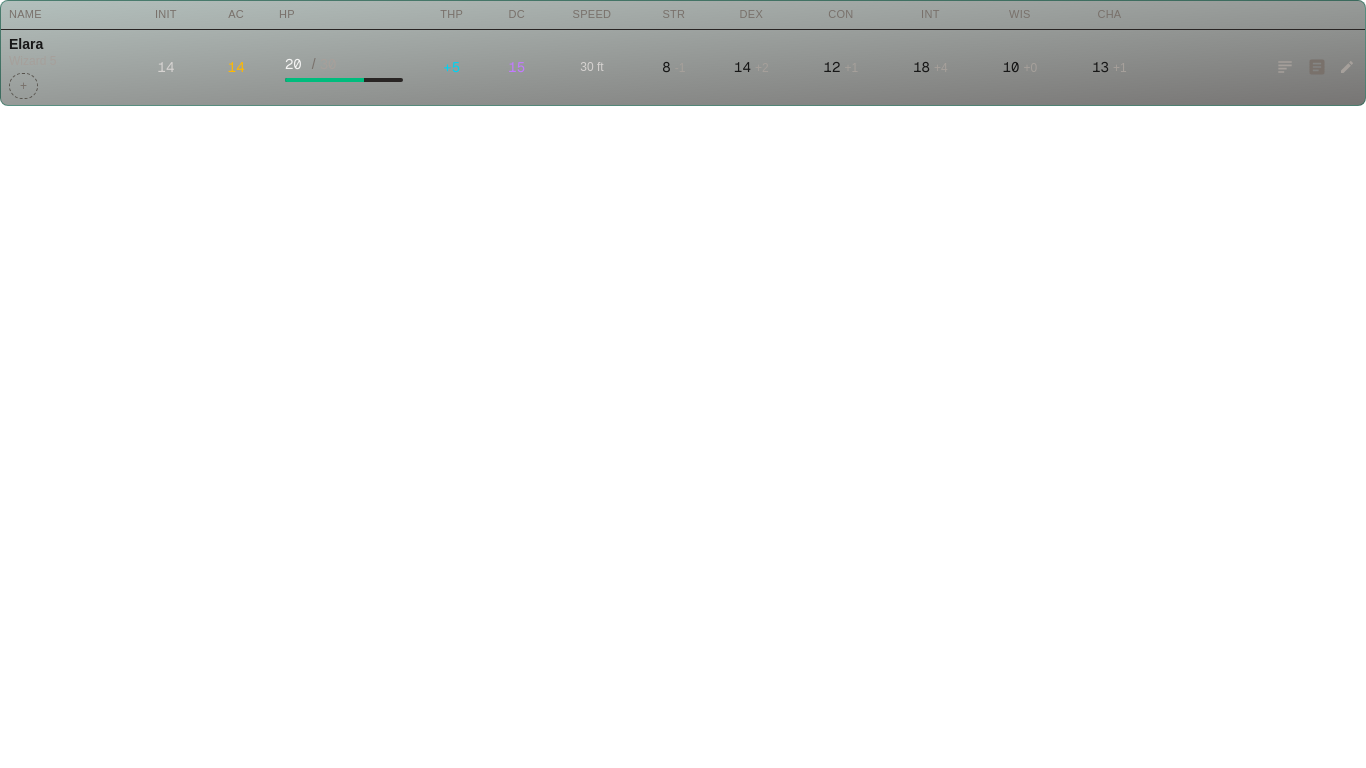
Test: CombatantTable › party rows open the character sheet modal
Click the button named "Character Sheet": (1285, 68) [1269, 52, 1301, 84]
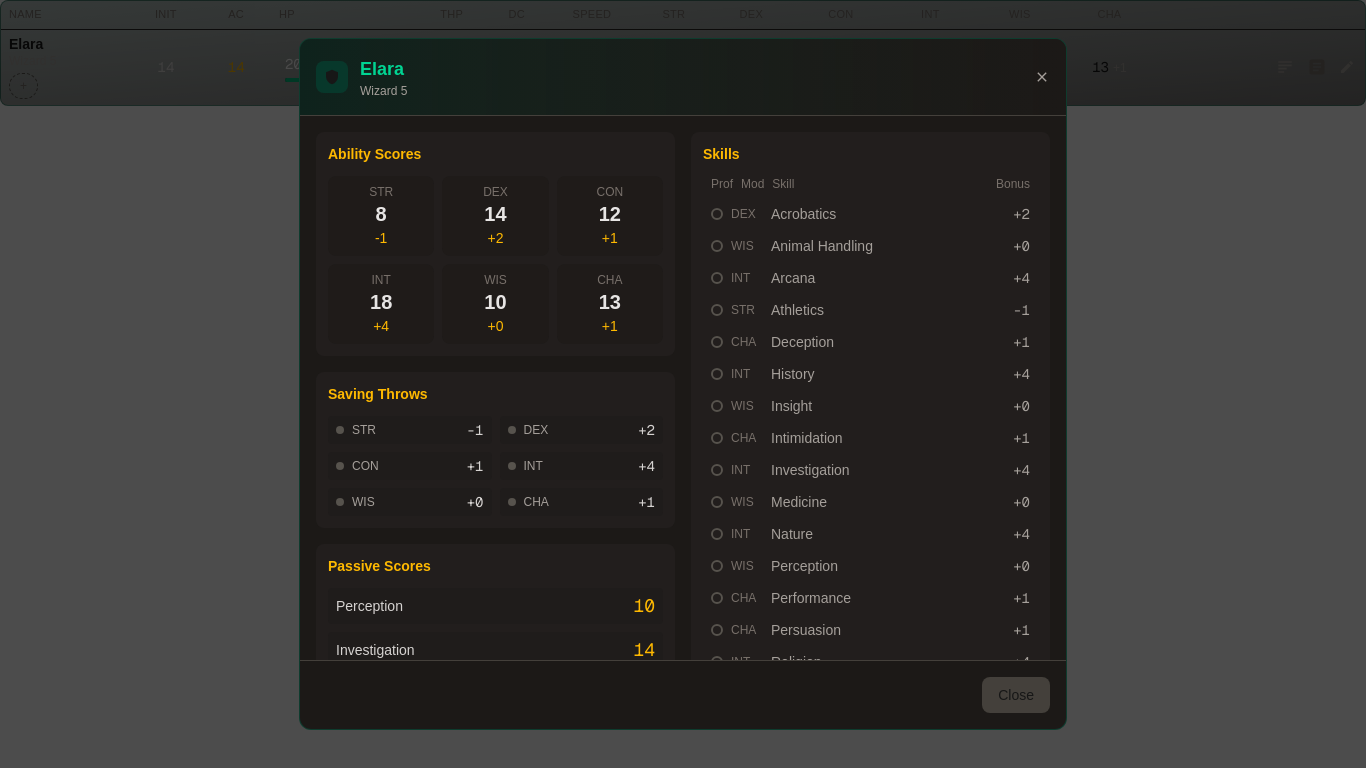
Now the heading "Ability Scores" is shown, box [328, 146, 421, 162]
